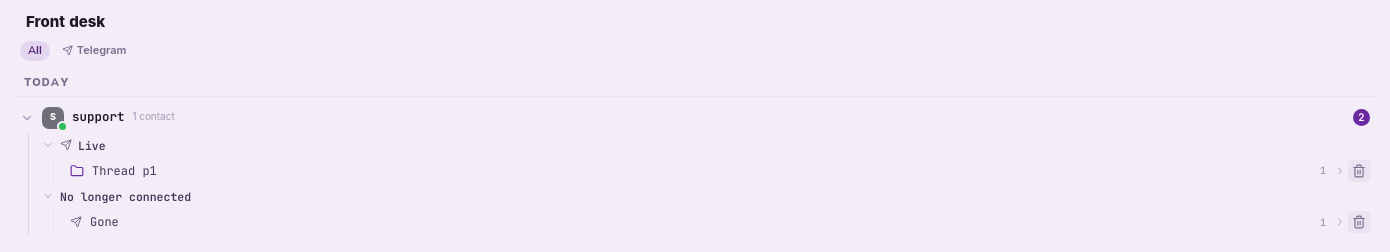
Scenario: tabs come from enabled connections › a removed thread stays out of its channel's tab while another connection on that channel is enabled
This screenshot has width=1390, height=252.
Check: the text "Gone" is shown, box top-left (90, 214), bottom-right (119, 230)
Step 1. Click the tab "Telegram" → (94, 51), box top-left (54, 40), bottom-right (135, 61)
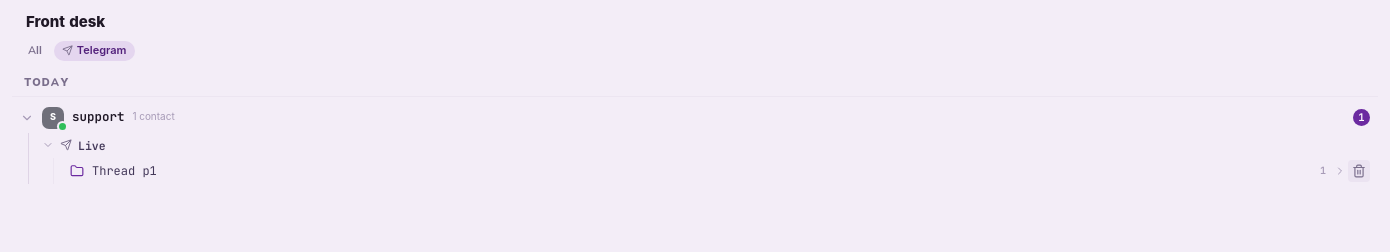
Check: the text "Live" is shown, box top-left (78, 136), bottom-right (106, 154)
Check: the button "Gone" is gone
